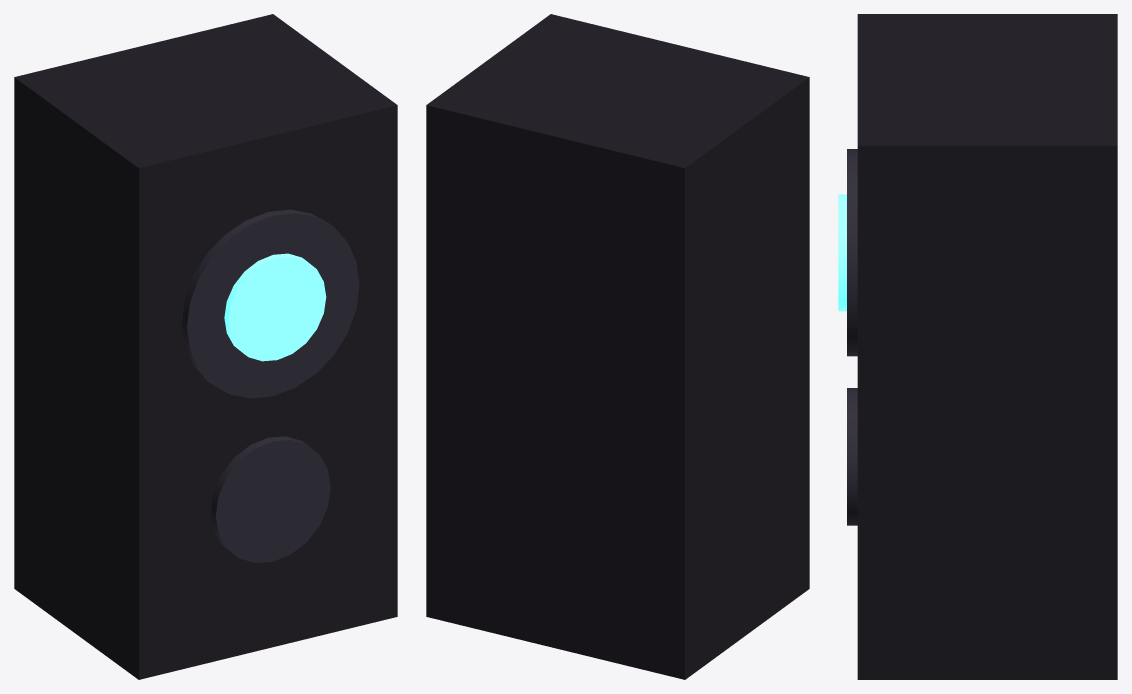
File: prop_club_speaker_ph.glb
3 renders of one model, left to right at view 1: azimuth 30°, elevation 25°; view 2: azimuth 150°, elevation 25°; view 3: azimuth 270°, elevation 25°, orthographic. The views are drawn at different scales.
Parts seen in each view (by area): view 1: prop_club_speaker; view 2: prop_club_speaker; view 3: prop_club_speaker.
Boxes of the visible parts, box(x1,y1,x2,y2) form: prop_club_speaker: box(14, 14, 397, 679); prop_club_speaker: box(426, 14, 809, 679); prop_club_speaker: box(838, 14, 1117, 679).
Bounding box in the file's own units: 0.9 × 1.7 × 0.805.
